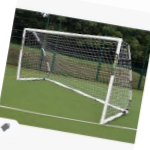goals: (16, 24, 135, 125)
